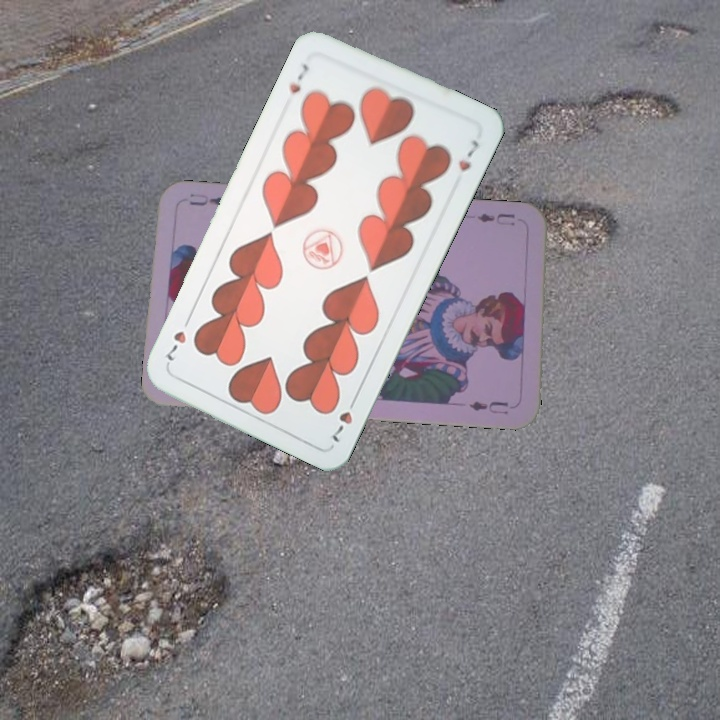EU: (473, 209, 518, 228)
H7: (328, 391, 360, 445), (285, 60, 312, 97)
